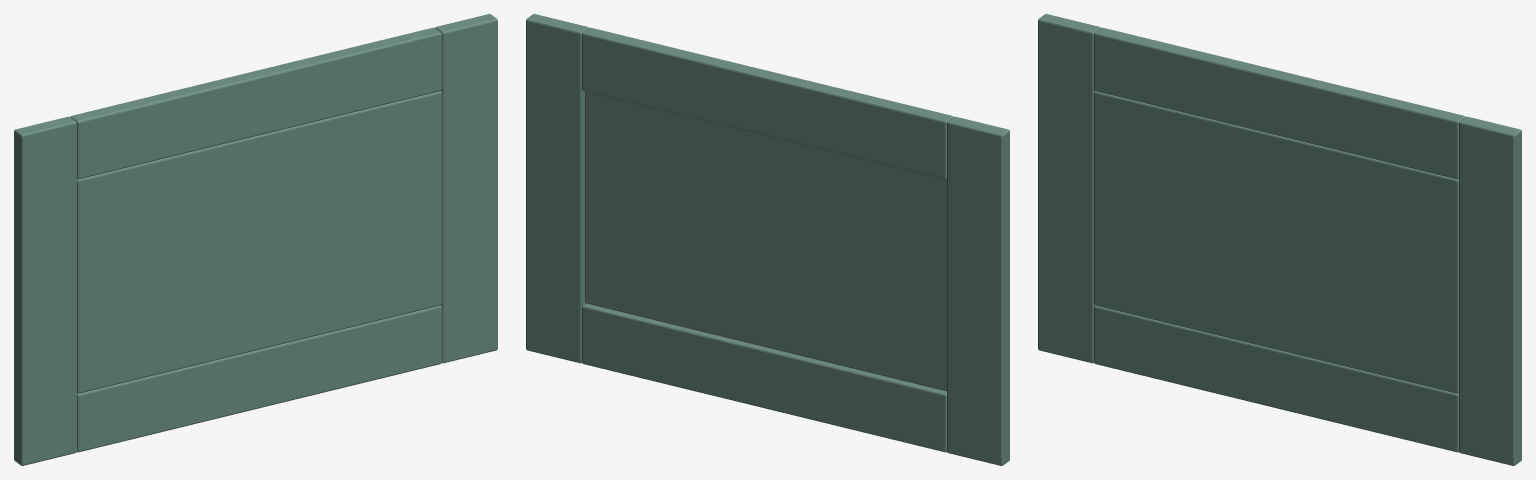
The model's file is DOOR_HORIZONTAL_600x400.glb.
3 renders of one model, left to right at view 1: azimuth 30°, elevation 25°; view 2: azimuth 150°, elevation 25°; view 3: azimuth 330°, elevation 25°, orthographic.
Parts seen in each view (by area): view 1: front_panel_01_center, front_panel_01_top, front_panel_01_bottom, front_panel_01_left, front_panel_01_right; view 2: front_panel_01_center, front_panel_01_top, front_panel_01_bottom, front_panel_01_left, front_panel_01_right; view 3: front_panel_01_center, front_panel_01_top, front_panel_01_bottom, front_panel_01_right, front_panel_01_left.
Boxes of the visible parts, x1,y1,x2,y2 form: front_panel_01_center: [77, 91, 441, 393]; front_panel_01_top: [70, 27, 441, 179]; front_panel_01_bottom: [77, 305, 441, 452]; front_panel_01_left: [14, 116, 76, 465]; front_panel_01_right: [435, 14, 497, 363]; front_panel_01_center: [585, 91, 946, 391]; front_panel_01_top: [582, 27, 953, 179]; front_panel_01_bottom: [582, 303, 946, 452]; front_panel_01_left: [947, 116, 1009, 465]; front_panel_01_right: [526, 14, 588, 363]; front_panel_01_center: [1094, 91, 1458, 393]; front_panel_01_top: [1094, 27, 1465, 179]; front_panel_01_bottom: [1094, 305, 1458, 452]; front_panel_01_right: [1459, 116, 1521, 465]; front_panel_01_left: [1038, 14, 1100, 363].
Size of the model in its own units: 0.596 by 0.396 by 0.018.
